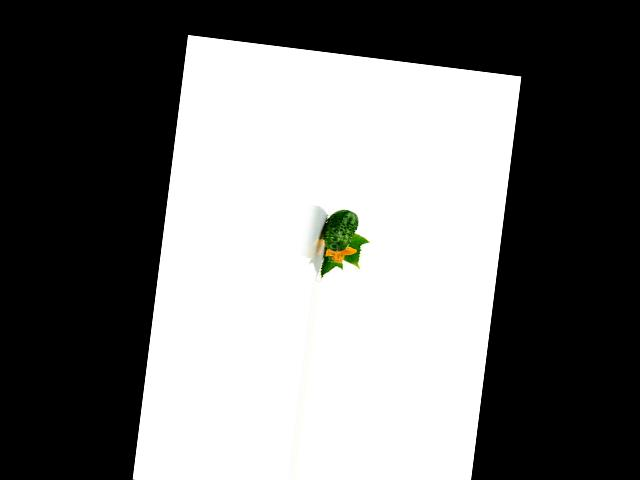cucumber: (321, 207, 359, 252)
